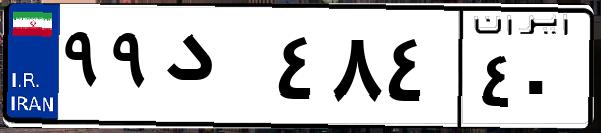0: (525, 38, 570, 115)
4: (270, 28, 330, 110), (385, 28, 445, 110), (475, 38, 525, 113)
8: (330, 28, 385, 110)
9: (57, 26, 110, 100), (110, 28, 158, 98)
د: (158, 20, 270, 120)
